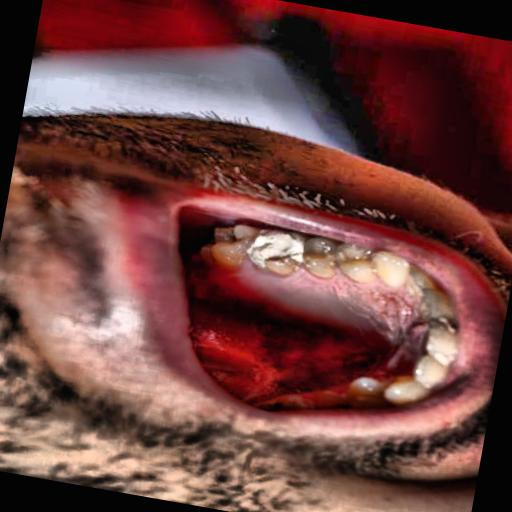Caries: (210, 211, 343, 296)
